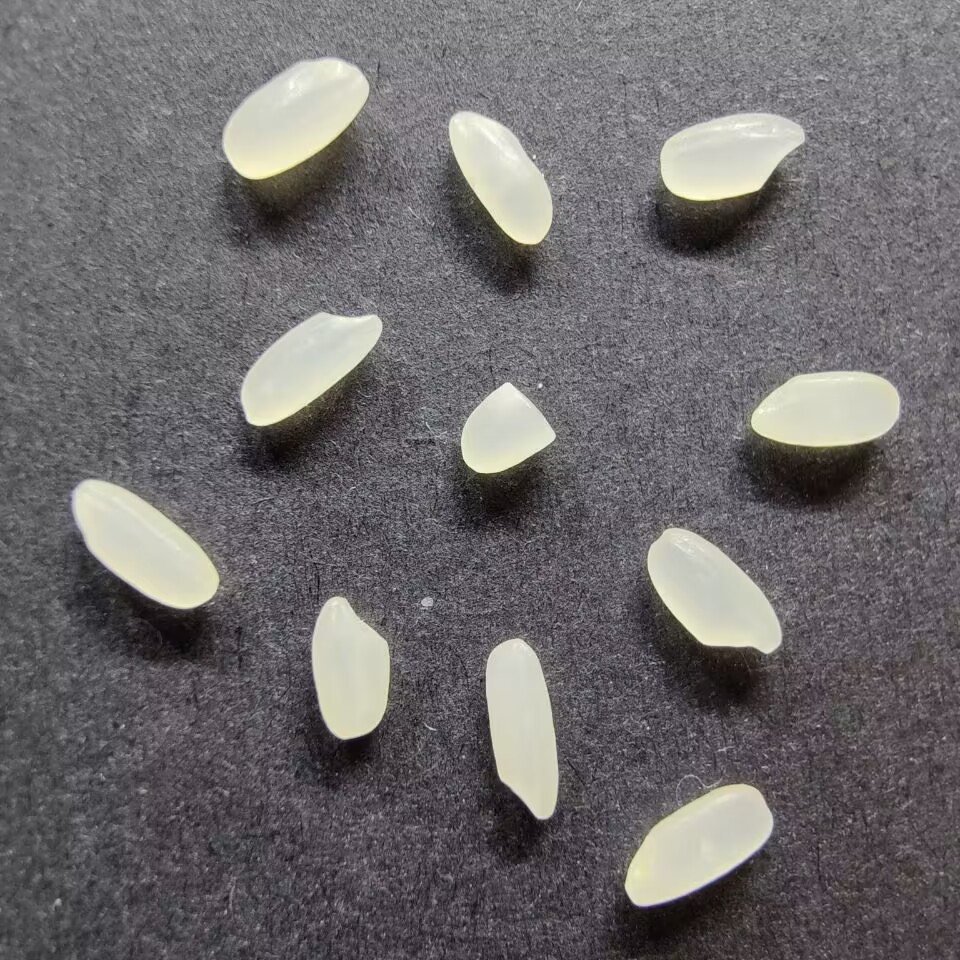broken: (458, 380, 557, 475)
rice: (68, 478, 222, 612), (621, 780, 775, 909), (221, 54, 371, 181), (648, 526, 786, 656), (240, 306, 385, 428), (446, 108, 557, 246), (485, 636, 561, 823), (659, 111, 807, 201), (309, 593, 394, 742), (749, 369, 902, 448)
